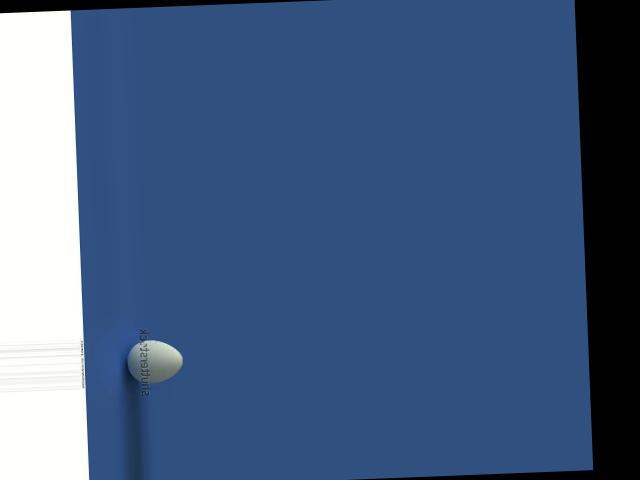egg: (126, 338, 183, 384)
